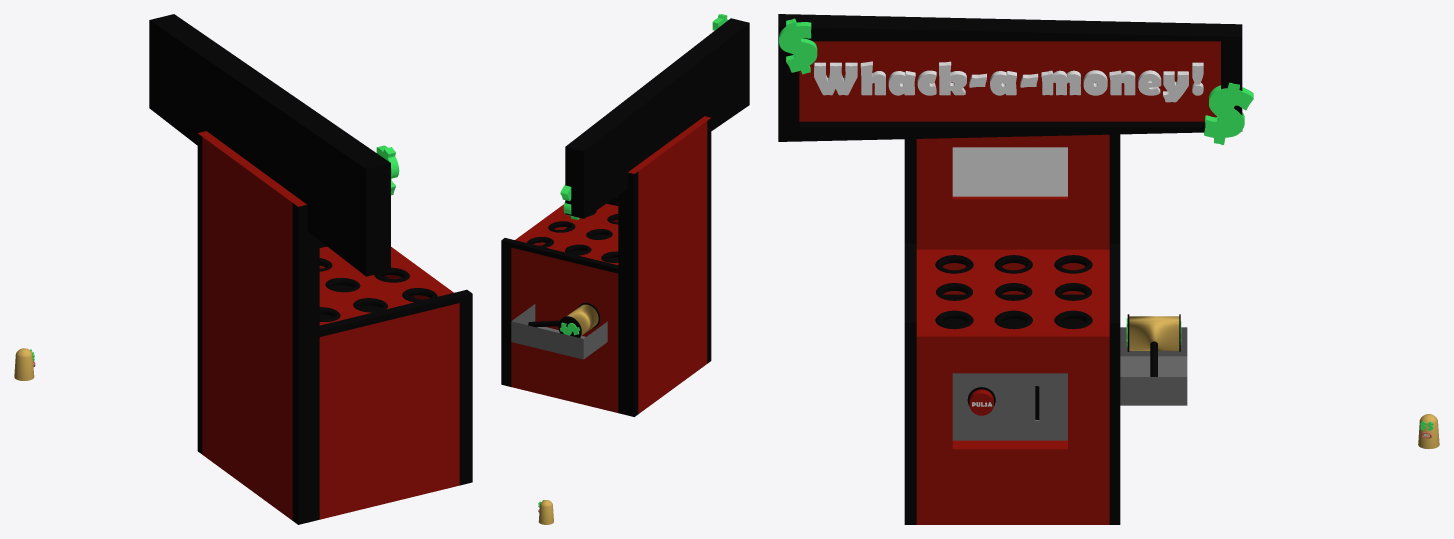
The model's file is martillo whack.fbx.
3 views of the same model, side by side, from view 1: azimuth 30°, elevation 25°; view 2: azimuth 150°, elevation 25°; view 3: azimuth 270°, elevation 25° (orthographic). The views are drawn at different scales.
Parts seen in each view (by area): view 1: Cube, cartel_reborde, borde, bicho; view 2: Cube, cartel_reborde, borde, caja guarda martillo, pico, bicho; view 3: Cube, cartel, cartel_reborde, borde, Text.002, dispensador monedas, pantalla, caja guarda martillo, $.003, pico, $.002.
Boxes of the visible parts, x1=… form: Cube: x1=198, y1=131, x2=459, y2=520; cartel_reborde: x1=149, y1=14, x2=390, y2=276; borde: x1=197, y1=133, x2=472, y2=524; bicho: x1=14, y1=348, x2=34, y2=380; Cube: x1=511, y1=116, x2=710, y2=413; cartel_reborde: x1=565, y1=18, x2=749, y2=218; borde: x1=501, y1=118, x2=711, y2=416; caja guarda martillo: x1=511, y1=304, x2=607, y2=359; pico: x1=567, y1=304, x2=598, y2=335; bicho: x1=538, y1=500, x2=553, y2=524; Cube: x1=916, y1=134, x2=1109, y2=524; cartel: x1=799, y1=41, x2=1220, y2=121; cartel_reborde: x1=778, y1=14, x2=1242, y2=141; borde: x1=904, y1=134, x2=1120, y2=524; Text.002: x1=814, y1=61, x2=1203, y2=102; dispensador monedas: x1=952, y1=373, x2=1067, y2=440; pantalla: x1=952, y1=147, x2=1067, y2=196; caja guarda martillo: x1=1120, y1=327, x2=1187, y2=405; $.003: x1=1204, y1=82, x2=1253, y2=144; pico: x1=1129, y1=316, x2=1179, y2=350; $.002: x1=779, y1=18, x2=817, y2=74.
Bounding box in the file's own units: 450 × 871 × 1137.
